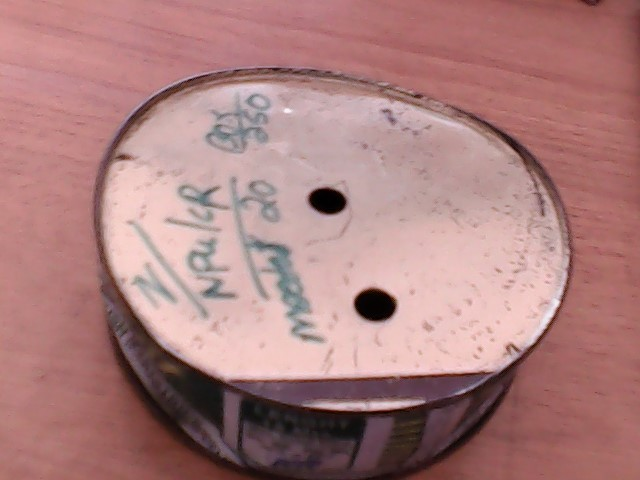Metal: (72, 55, 585, 480)
